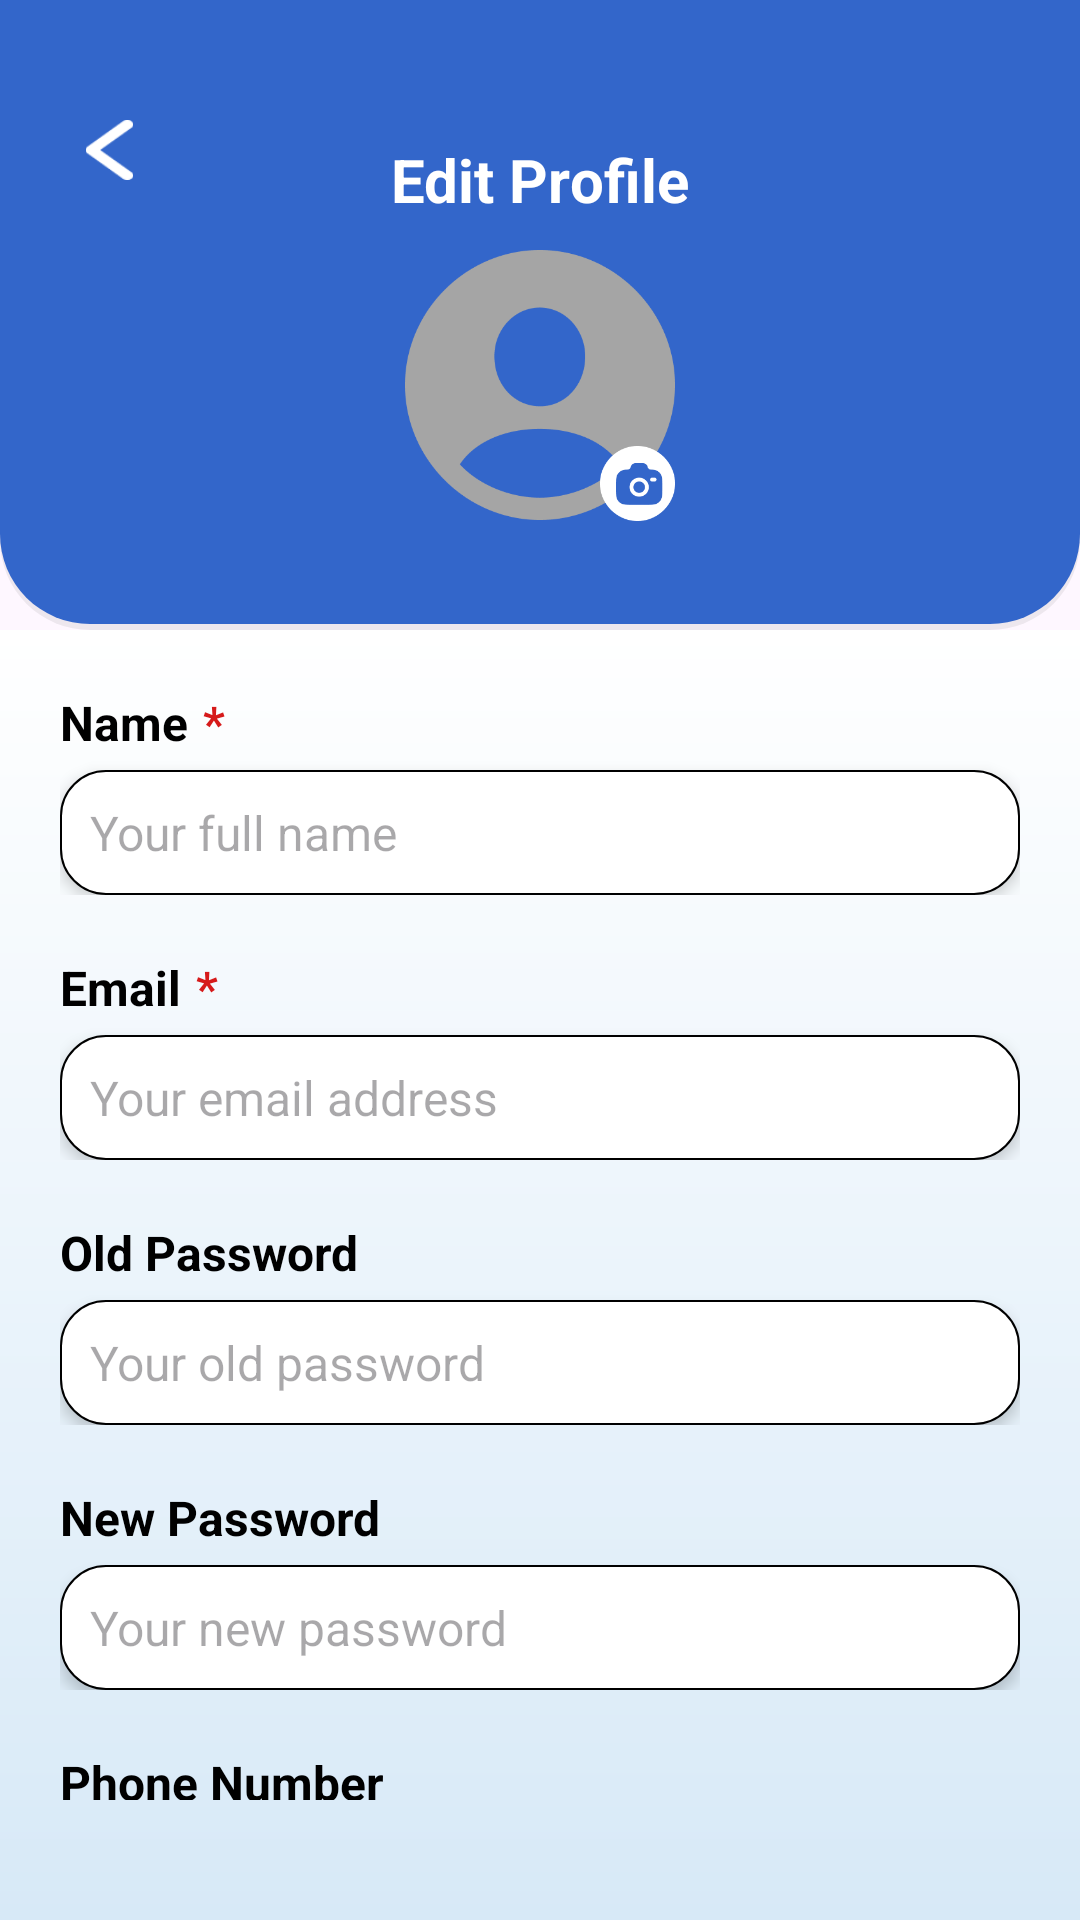

Locate icon controls on the screen. Image size 1080 × 1920, boxes as (x1, y1, x2, y2).
arrow left: (86, 120, 133, 180)
